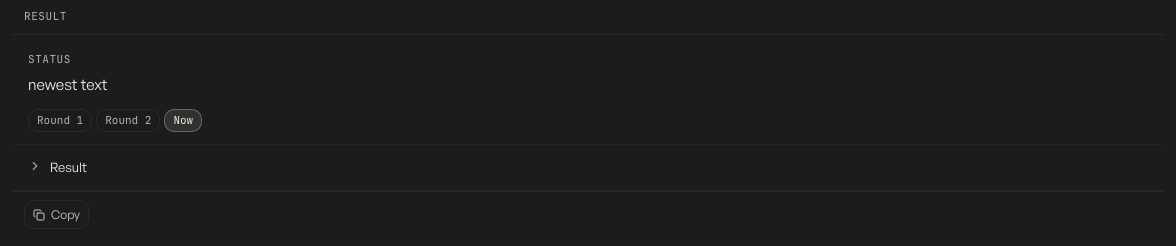
Scenario: ResultDocPanel › loads a round's snapshot when its point on the timeline is tapped
This screenshot has width=1176, height=246.
Expected: the text with test id "result-verdict" reads "newest text", [28, 75, 107, 94]
Click the button named "Older version (round 1)": (60, 120) [28, 109, 92, 132]
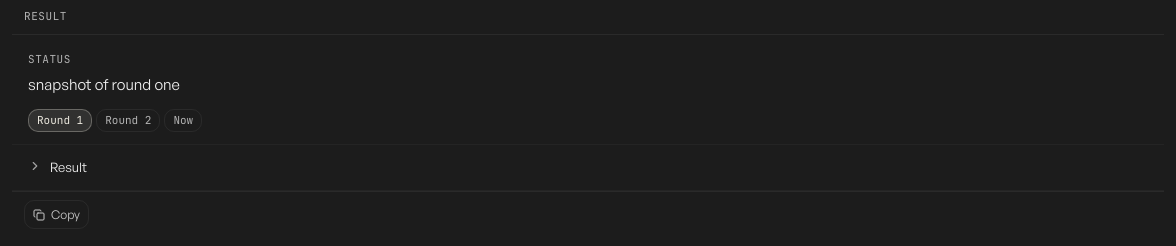
Expected: the text with test id "result-verdict" reads "snapshot of round one", [28, 75, 180, 94]
